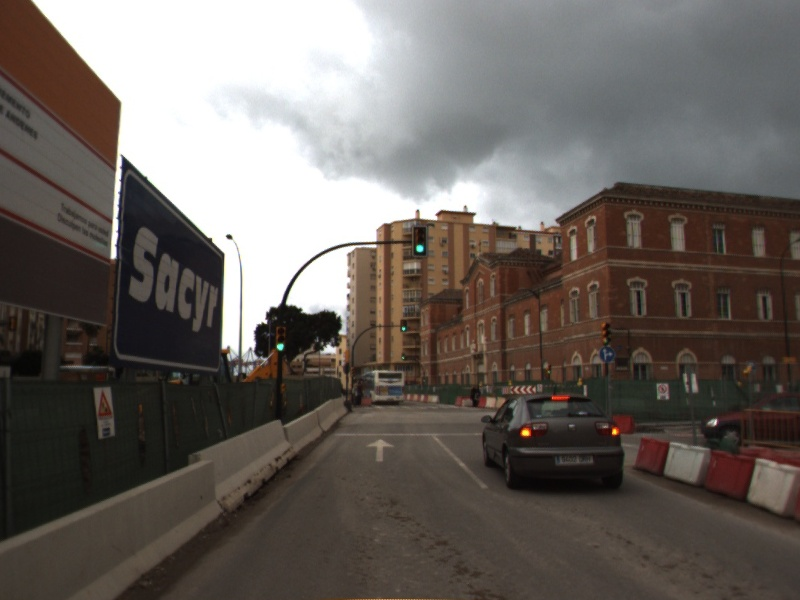STRAIGHT: (364, 437, 398, 463)
